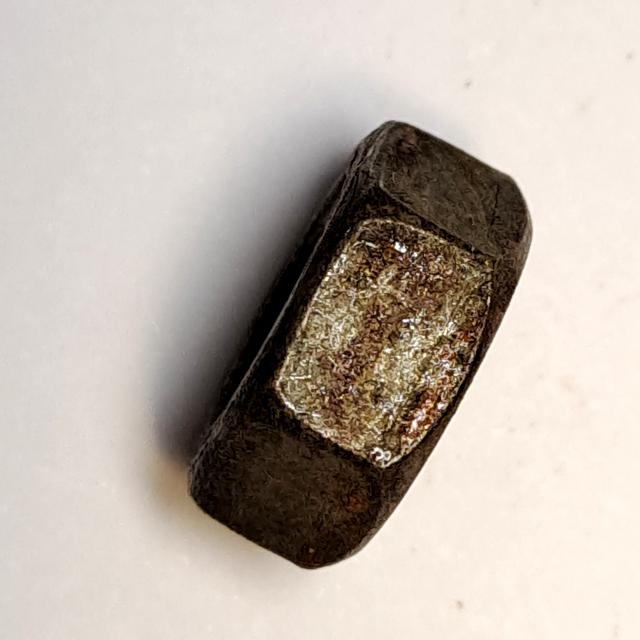Side_Rust: (179, 115, 547, 579)
